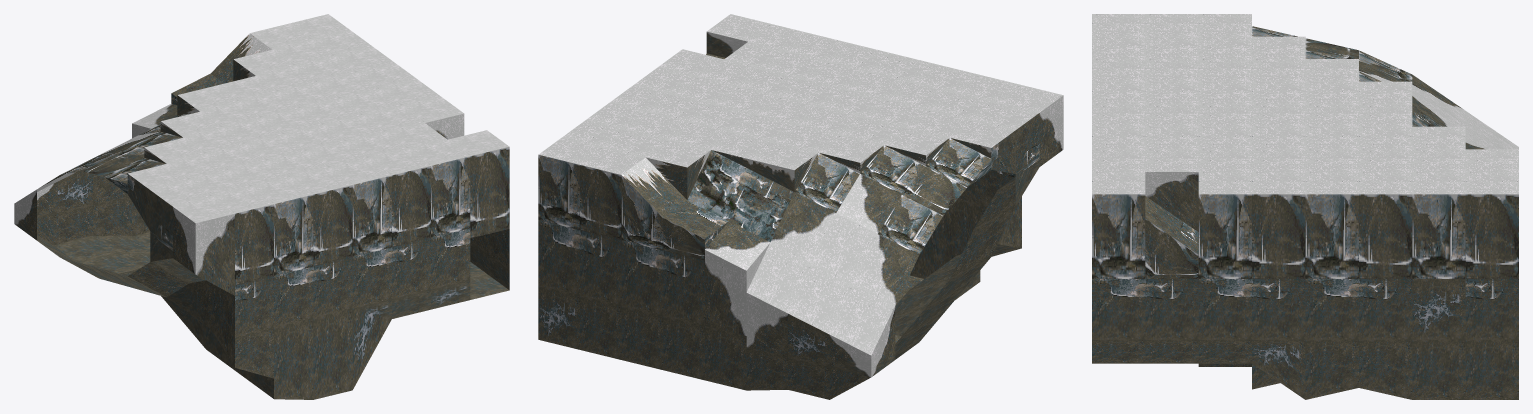
The model's file is room05.obj.
The picture shows the model from 3 angles, left to right: view 1: azimuth 30°, elevation 25°; view 2: azimuth 150°, elevation 25°; view 3: azimuth 270°, elevation 25°; orthographic projection. The views are drawn at different scales.
Parts seen in each view (by area): view 1: 01-Caves.005; view 2: 01-Caves.005; view 3: 01-Caves.005.
Boxes of the visible parts, box(x1,y1,x2,y2) form: 01-Caves.005: box(14, 14, 509, 399); 01-Caves.005: box(538, 14, 1063, 399); 01-Caves.005: box(1092, 14, 1518, 399).
Bounding box in the file's own units: 80 × 50 × 80.
1 material, 1 textured.
